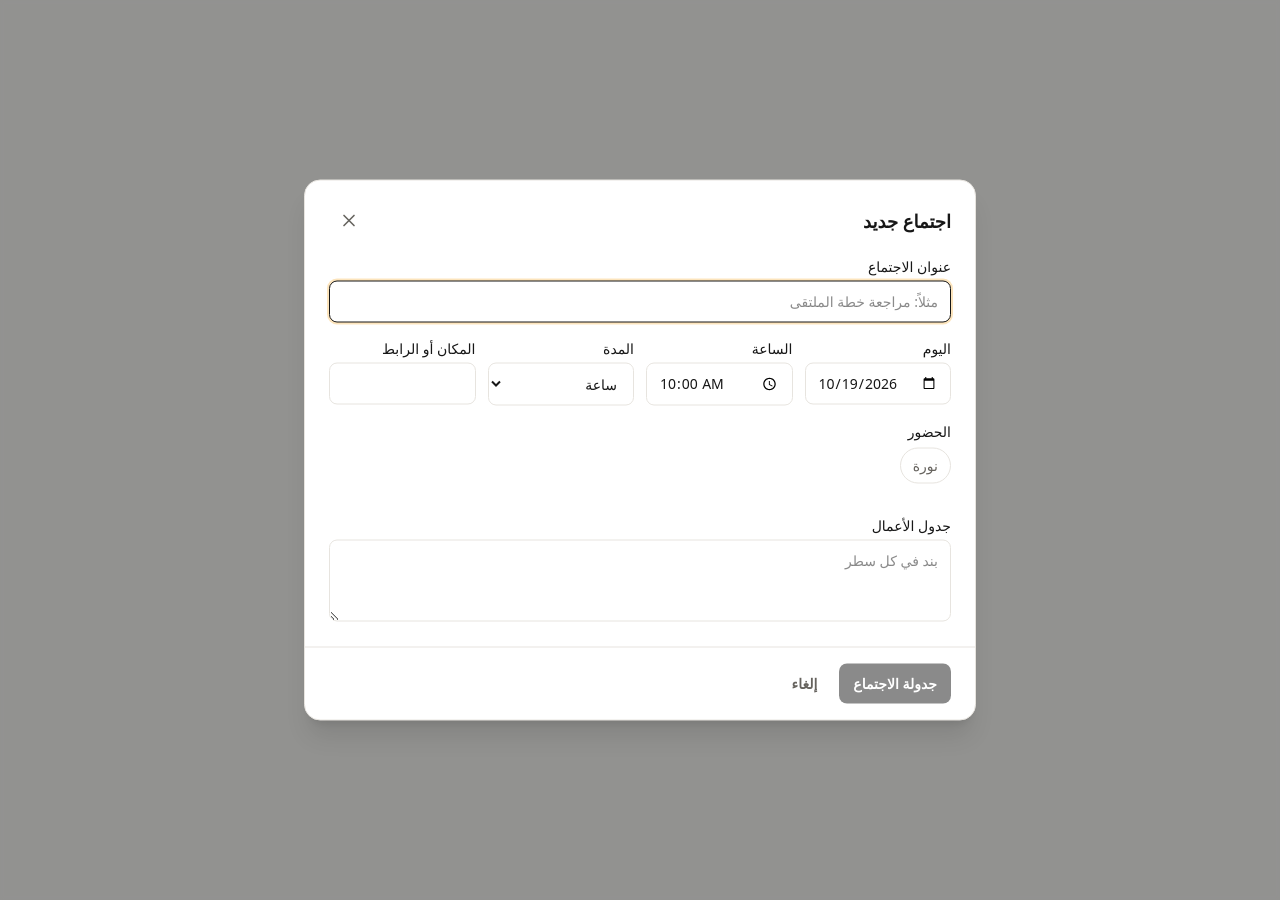
Test: planning a meeting › warns when someone invited is already in a meeting at that time
The width and height of the screenshot is (1280, 900).
Expected: the text "تعارض في الموعد" is not shown
Click the button "نورة".
click(925, 466)  # box [900,448,951,484]
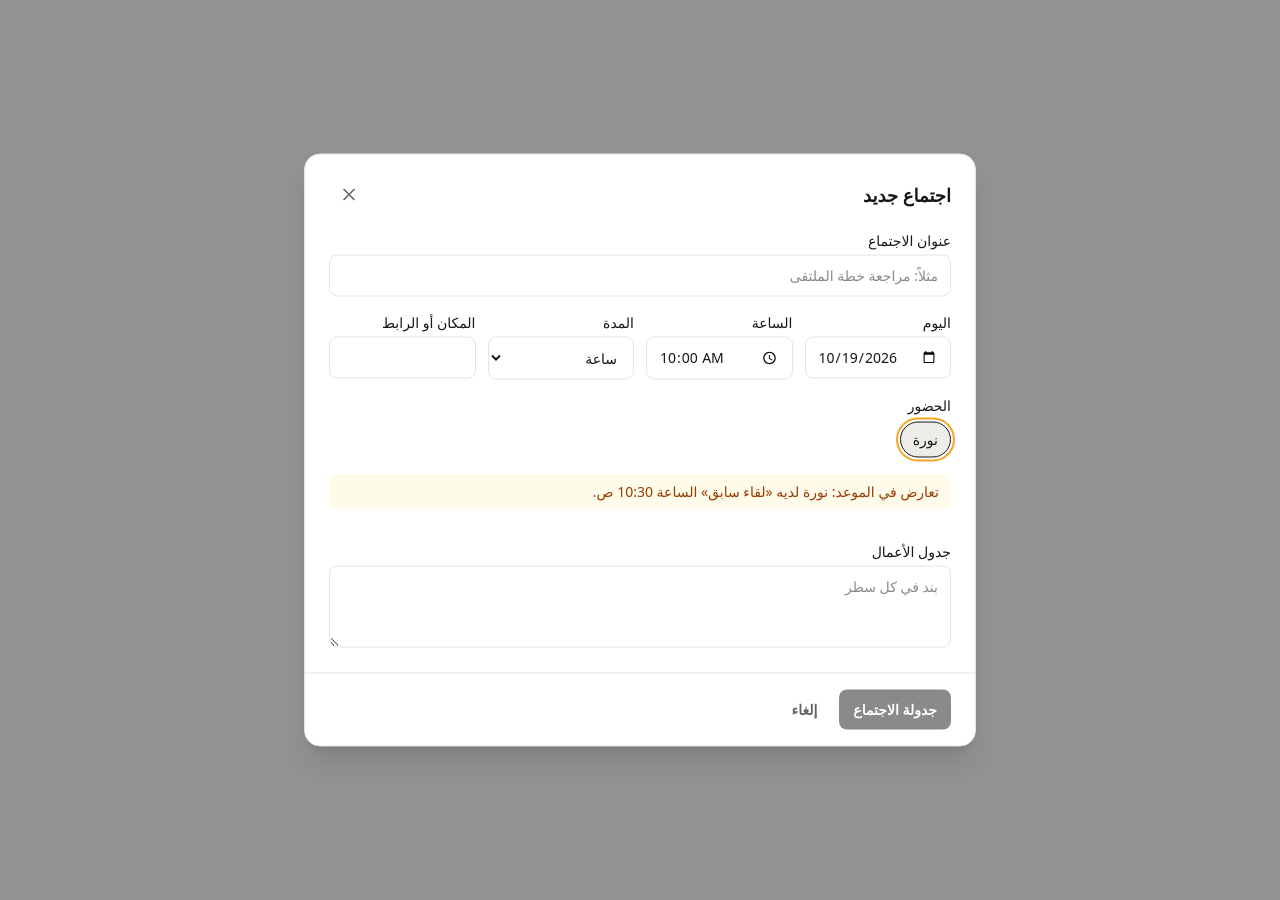
Expected: the text "تعارض في الموعد: نورة لديه «لقاء سابق» الساعة 10:30 ص." is shown, [329,474,951,510]
